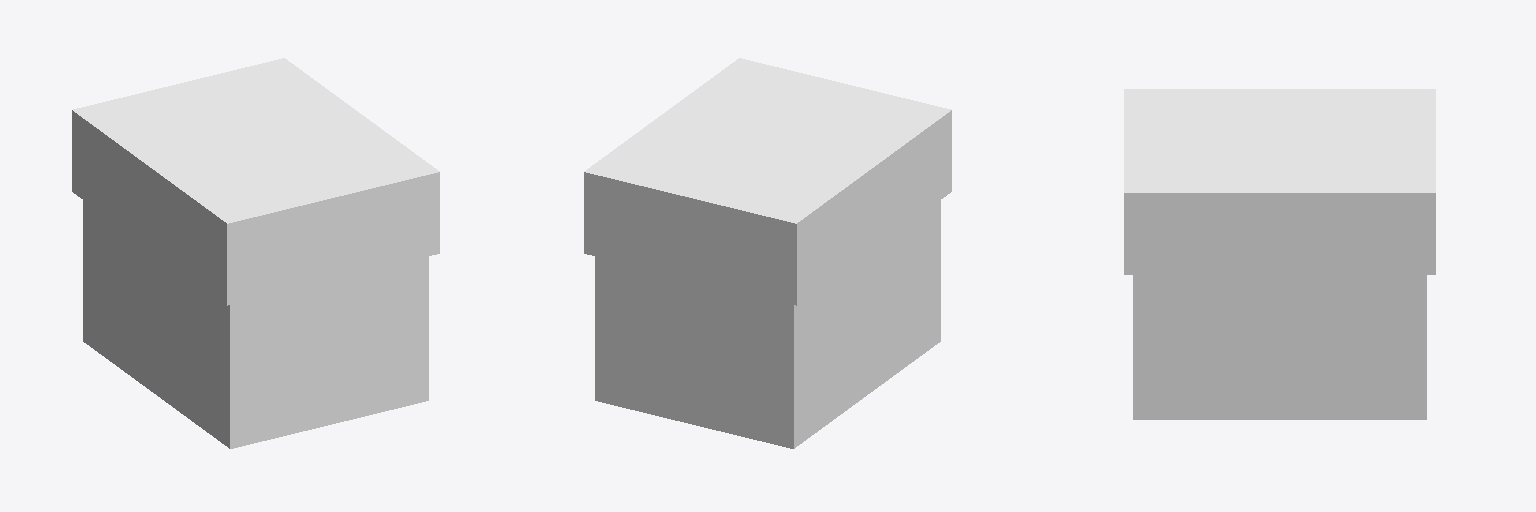
Rendered from paperbox.obj.
The picture shows the model from 3 angles: view 1: azimuth 30°, elevation 25°; view 2: azimuth 150°, elevation 25°; view 3: azimuth 270°, elevation 25°; orthographic projection.
Visible parts, largest first — view 1: object 1; view 2: object 1; view 3: object 1.
Boxes of the visible parts, x1=… form: object 1: x1=72, y1=58, x2=439, y2=448; object 1: x1=584, y1=58, x2=951, y2=448; object 1: x1=1124, y1=89, x2=1435, y2=419.
Bounding box in the file's own units: 3 × 3.1 × 3.8.